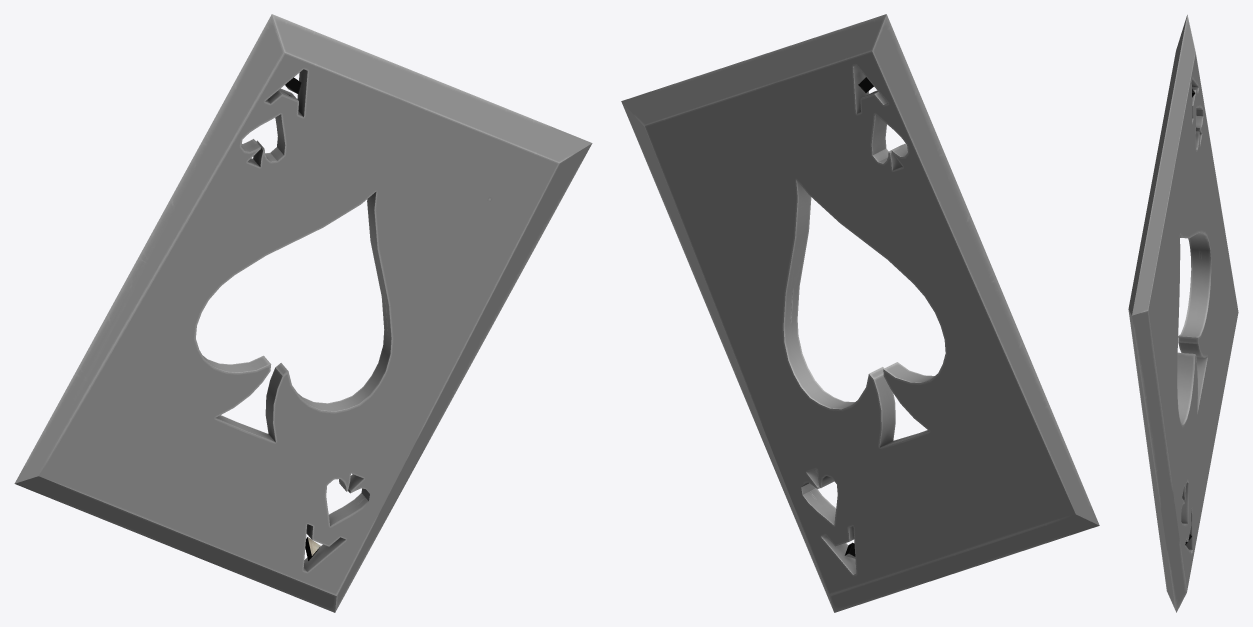
3 views of the same model, side by side, from view 1: azimuth 30°, elevation 25°; view 2: azimuth 150°, elevation 25°; view 3: azimuth 270°, elevation 25° (orthographic). The views are drawn at different scales.
Parts seen in each view (by area): view 1: Card; view 2: Card; view 3: Card.
Part boxes in pixels (x1,y1,x2,y2): Card: (14, 14, 592, 612); Card: (621, 14, 1099, 612); Card: (1128, 14, 1238, 612).
Bounding box in the file's own units: 0.1888 × 0.2092 × 0.0365.
Materials: 1 (1 with a texture image).
